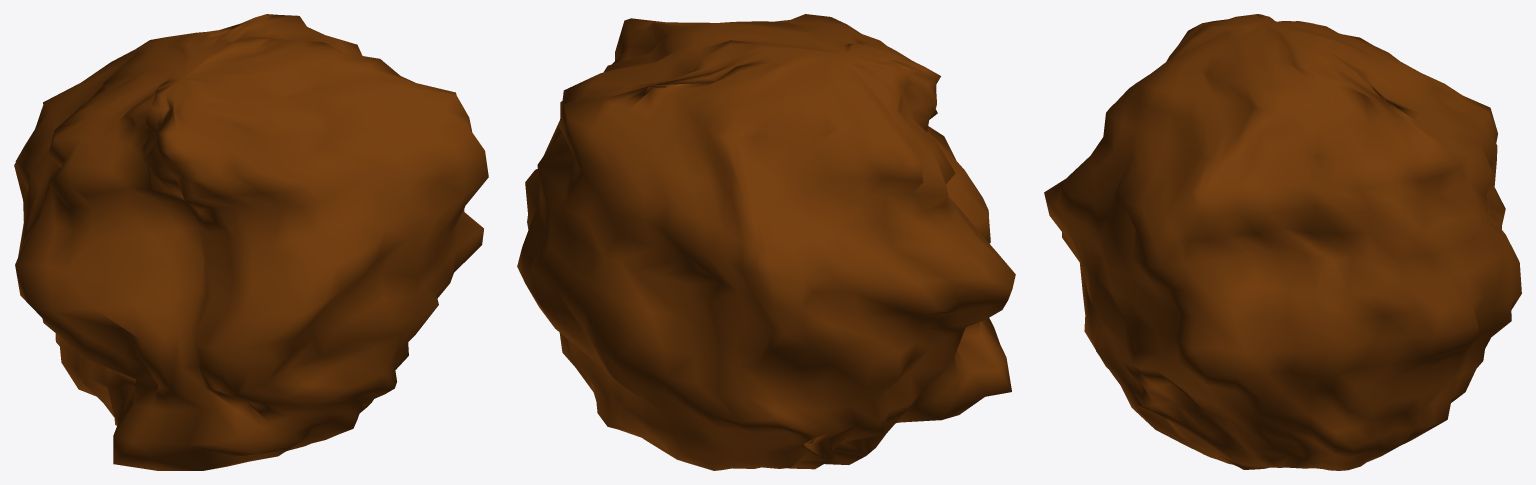
File: Astroid Model 01.FBX
The picture shows the model from 3 angles, left to right: view 1: azimuth 30°, elevation 25°; view 2: azimuth 150°, elevation 25°; view 3: azimuth 270°, elevation 25°; orthographic projection. The views are drawn at different scales.
Parts seen in each view (by area): view 1: Sphere001; view 2: Sphere001; view 3: Sphere001.
Part boxes in pixels (bbox=[...]): Sphere001: bbox=[14, 14, 488, 470]; Sphere001: bbox=[517, 14, 1015, 470]; Sphere001: bbox=[1044, 14, 1521, 470].
Size of the model in its own units: 101 by 88.59 by 95.77.
